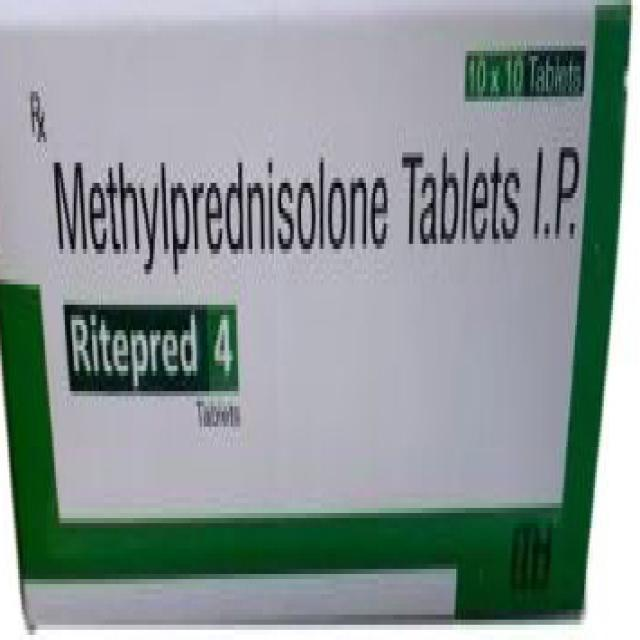drug-name: (62, 307, 236, 388)
